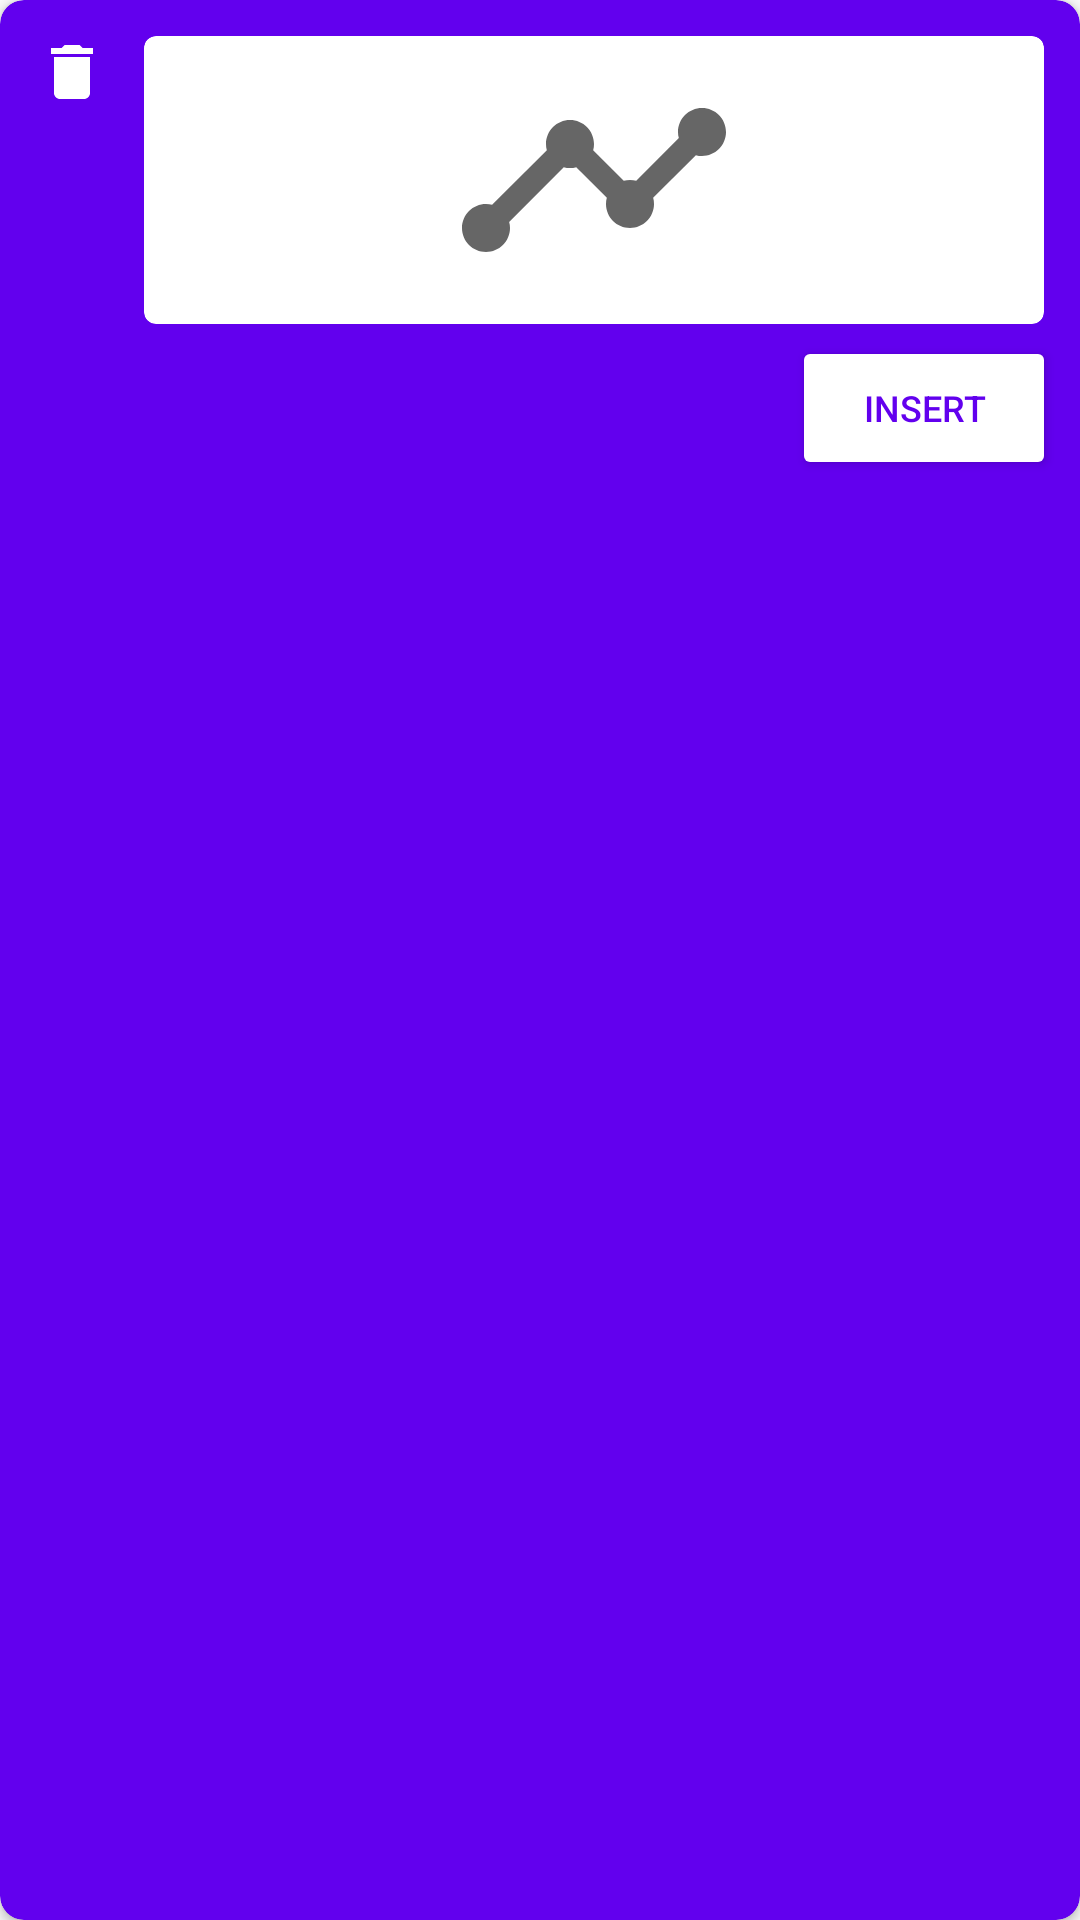

Named icons in this screenshot (1080×1920) and their centers, [x,y]:
delete: [72,72]
